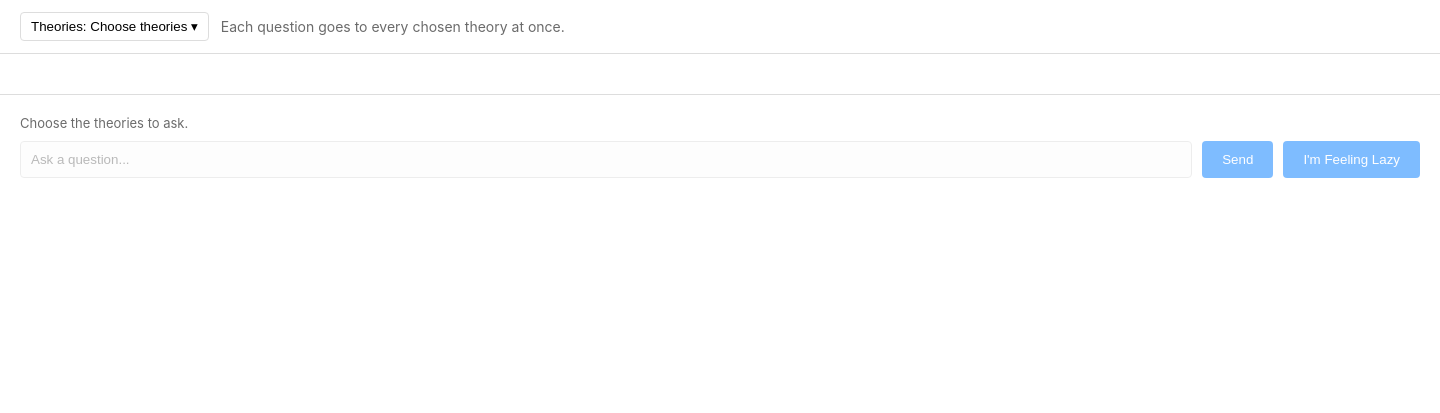
Test: a question goes to every chosen theory and each proved answer names its theory
Click the button "Theories: Choose theories ▾" at point(114, 26), box x1=20 y1=12 x2=209 y2=41
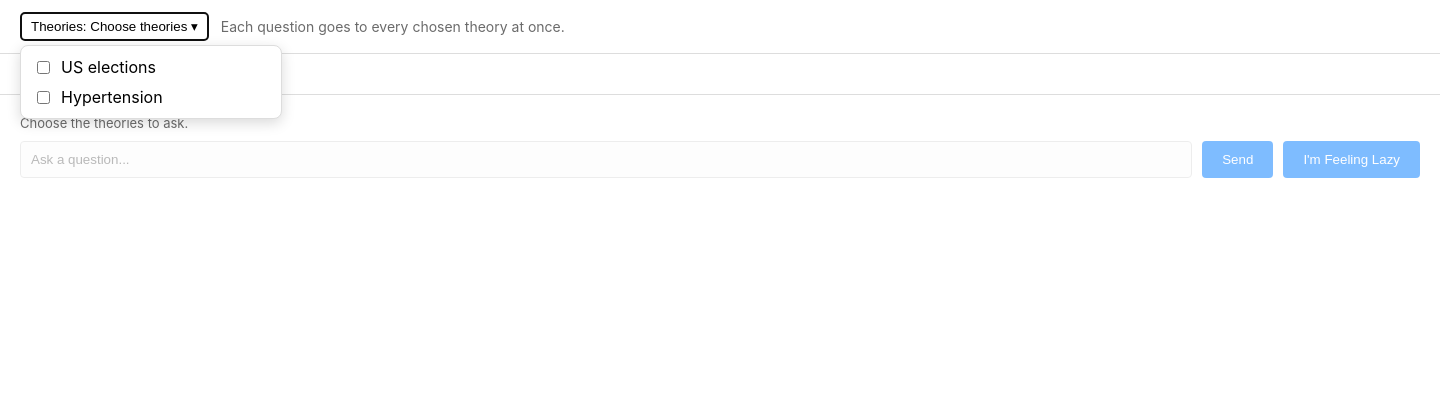
Click the checkbox labelled "US elections" at point(44, 67), box x1=37 y1=60 x2=50 y2=74
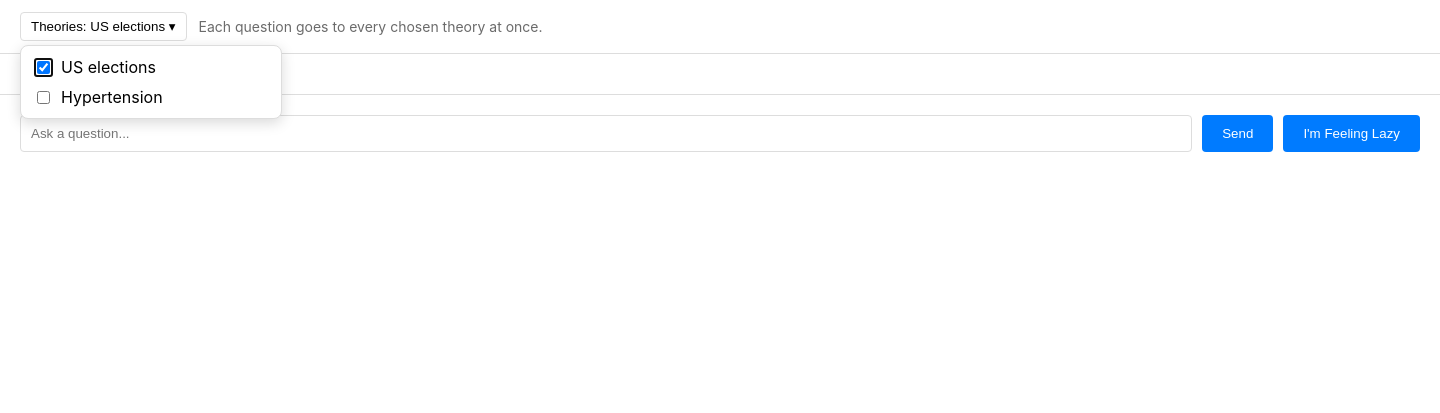
Click the checkbox labelled "Hypertension" at point(44, 97), box x1=37 y1=90 x2=50 y2=104
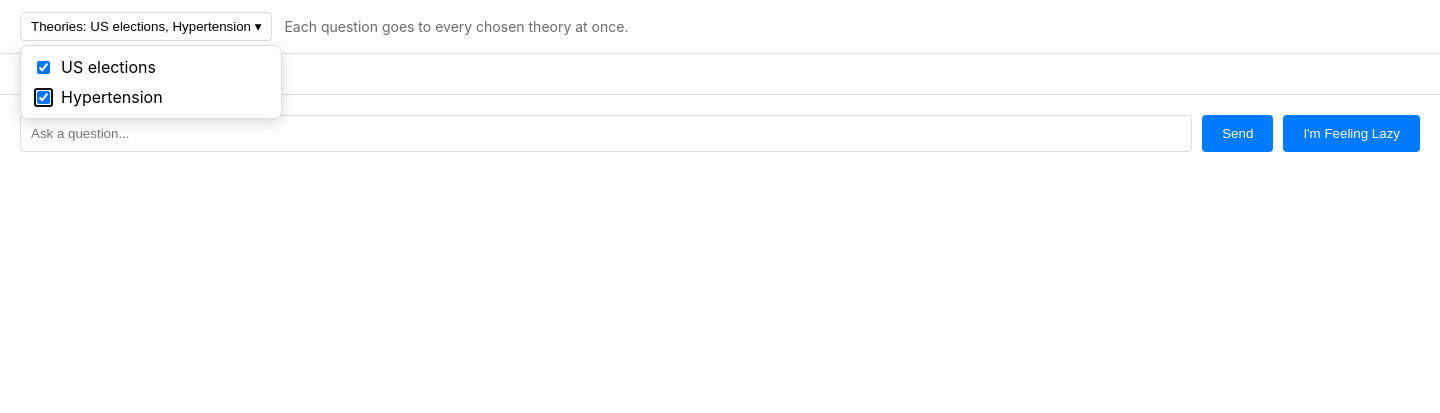
Press Escape
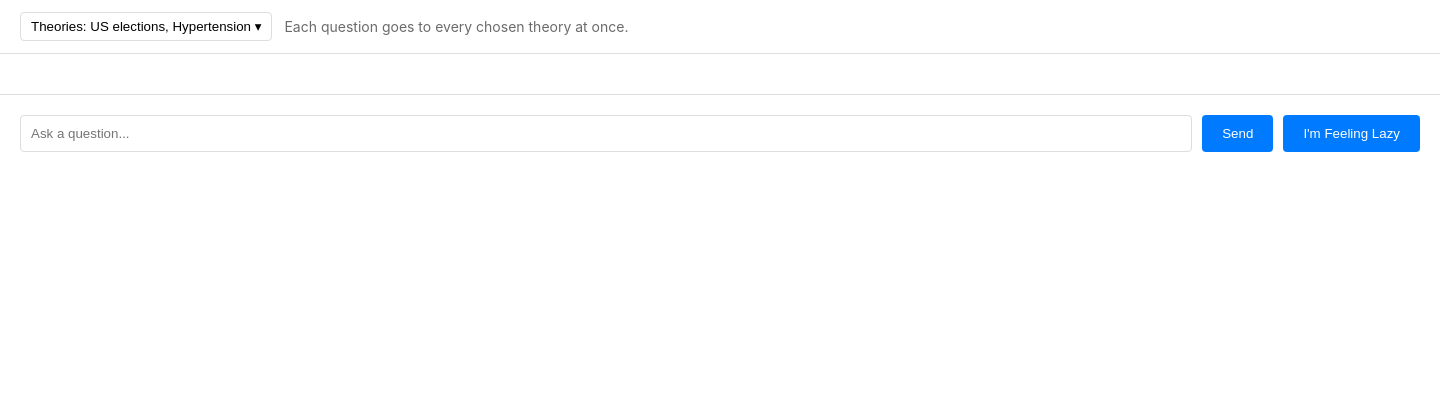
Expected: the button "Theories: US elections, Hypertension ▾" is shown, x1=20 y1=12 x2=272 y2=41
Type "Which party won?" into the field labelled "Ask a question" at point(606, 134), box x1=20 y1=115 x2=1192 y2=152
Click the button "Send" at point(1238, 134), box x1=1202 y1=115 x2=1273 y2=152
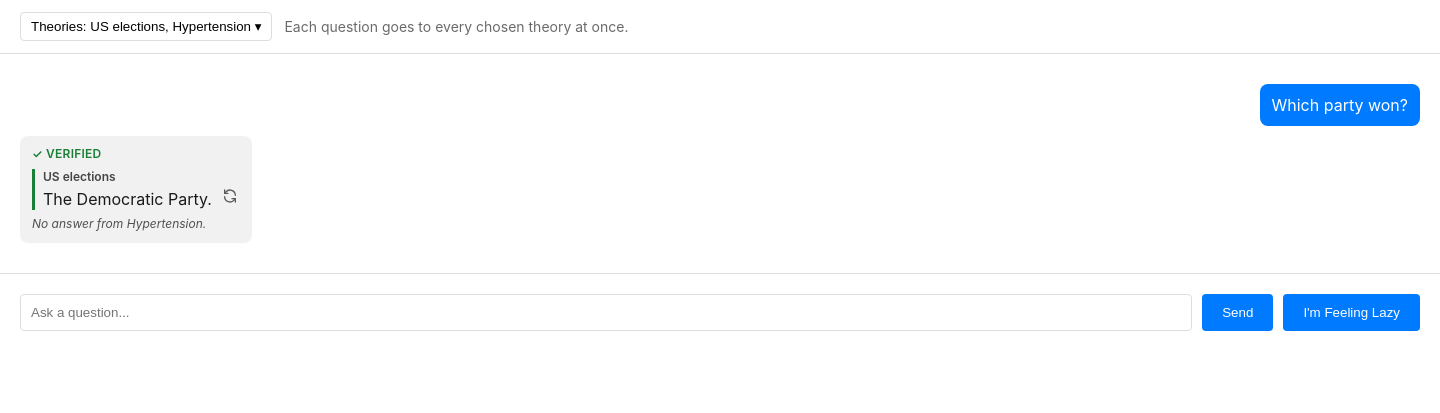
Expected: the number of list items is 1, x1=32 y1=169 x2=240 y2=210
Expected: the list item shows "US elections", x1=43 y1=169 x2=116 y2=184
Expected: the list item shows "The Democratic Party.", x1=43 y1=189 x2=212 y2=209
Click the button named "Show logical form" at point(230, 196), box x1=220 y1=188 x2=240 y2=204
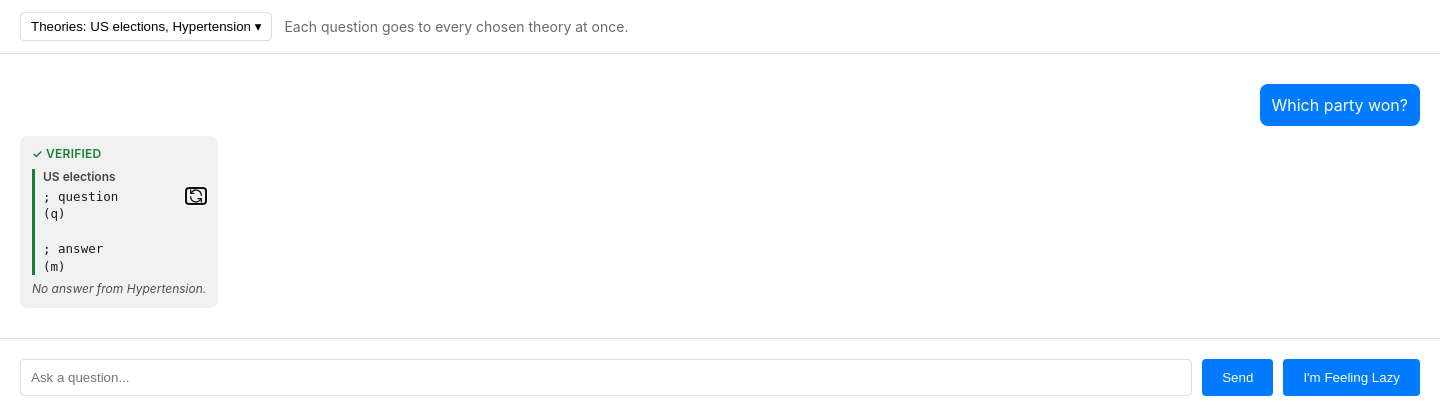
Expected: the text named "Logical form" shows "(q)", x1=43 y1=189 x2=118 y2=274
Expected: the text named "Logical form" shows "(m)", x1=43 y1=189 x2=118 y2=274
